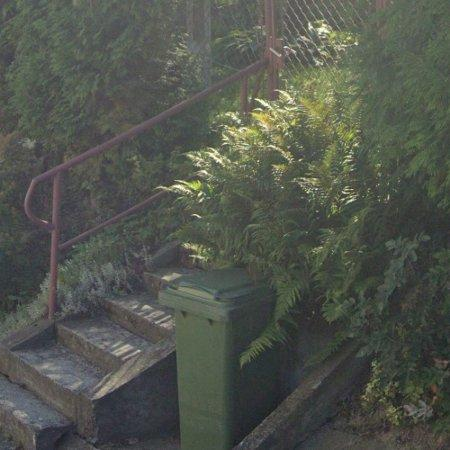stairs: (0, 244, 195, 450)
